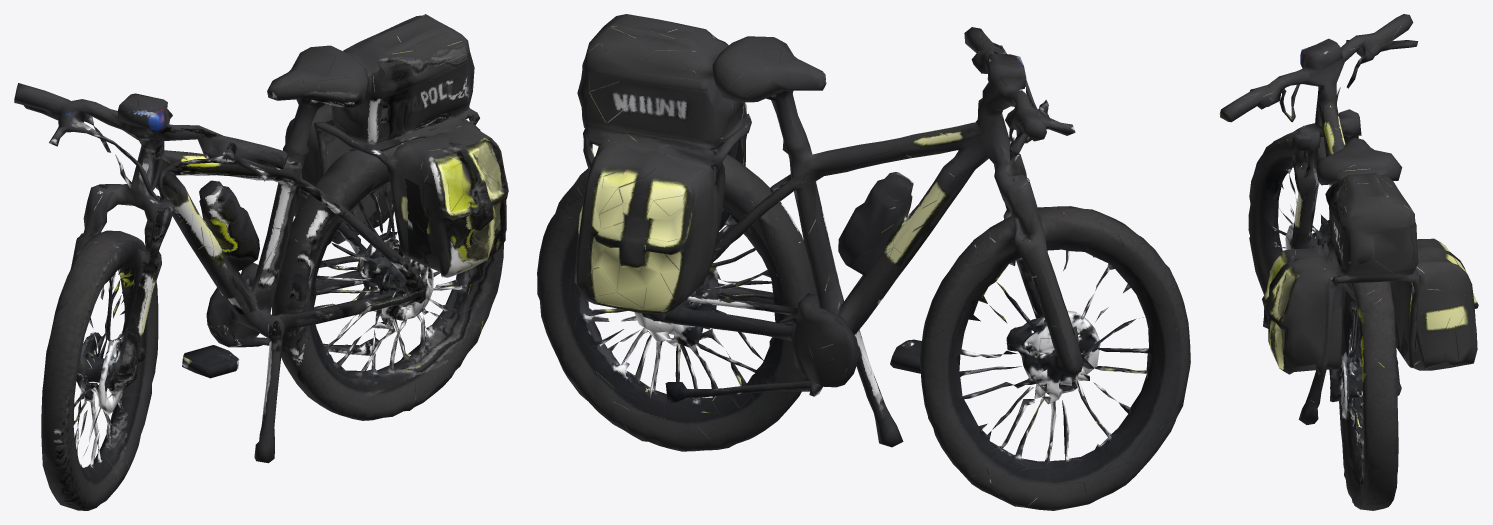
File: police-bicycle.glb
3 renders of one model, left to right at view 1: azimuth 30°, elevation 25°; view 2: azimuth 150°, elevation 25°; view 3: azimuth 270°, elevation 25°, orthographic. The views are drawn at different scales.
Parts seen in each view (by area): view 1: geometry_0; view 2: geometry_0; view 3: geometry_0.
Part boxes in pixels (x1,y1,x2,y2): geometry_0: [14, 14, 508, 510]; geometry_0: [537, 14, 1190, 510]; geometry_0: [1219, 14, 1478, 510].
Size of the model in its own units: 1.99 by 1.46 by 0.9983.
1 material, 1 textured.
